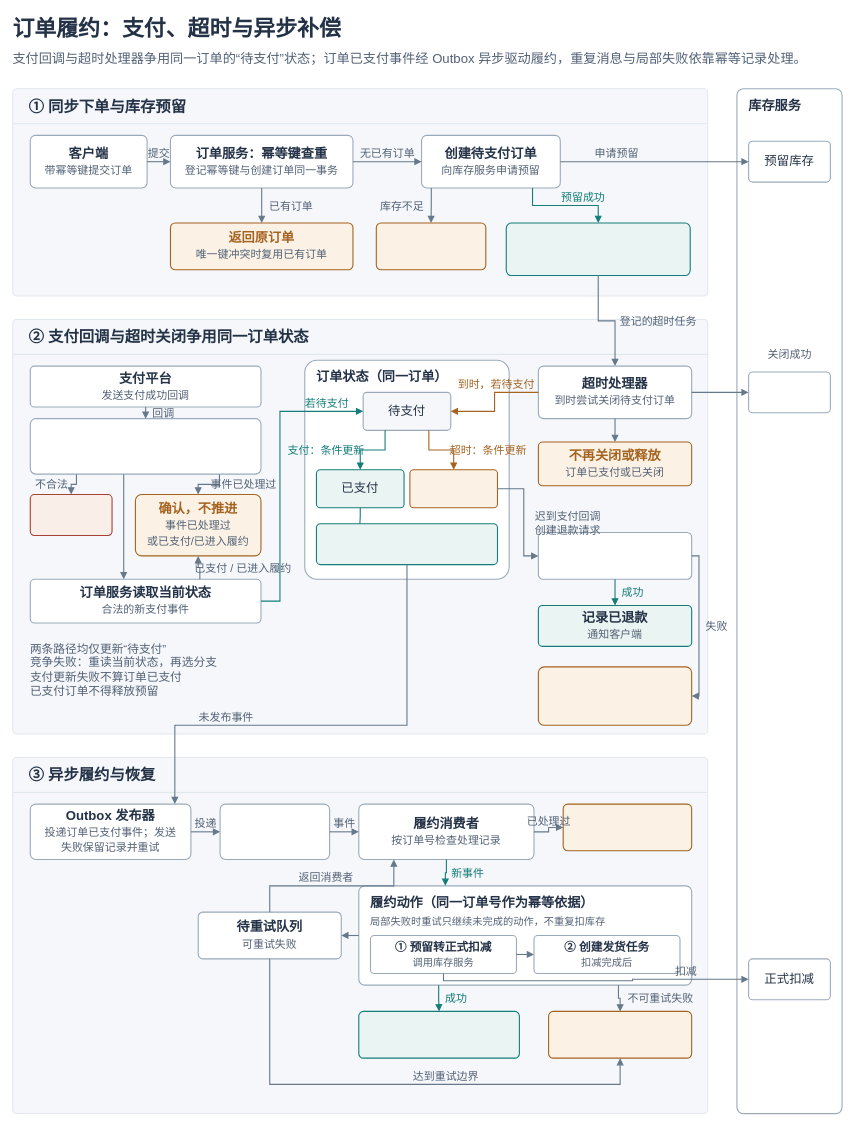
Image size: 856x1126. Some labels were removed from this diagram. The shapes that lost their labels are listed below. From the top down, each one's box as (x1, y1, x2, y2) in pixels, then its label:
(375, 222, 486, 270): 订单关闭 返回库存不足
(505, 222, 690, 276): 创建支付单并登记超时任务 返回订单号与支付入口
(748, 371, 831, 413): 释放预留
(29, 418, 261, 474): 回调接收器 验证回调合法性；按支付事件 ID 去重
(409, 469, 498, 508): 已关闭
(29, 494, 112, 536): 拒绝处理 回调不合法
(316, 523, 498, 565): Outbox 记录 订单已支付事件，同一事务写入
(537, 532, 692, 579): 退款处理 已关闭订单收到迟到支付
(537, 666, 692, 725): 人工处理 退款失败；订单保持关闭，不转入履约
(219, 803, 330, 860): 消息队列 可能重复投递
(562, 803, 692, 851): 直接确认 已成功处理过的事件
(358, 1011, 520, 1058): 订单已完成 通知客户端
(548, 1011, 692, 1058): 人工处理 不标记为已完成
